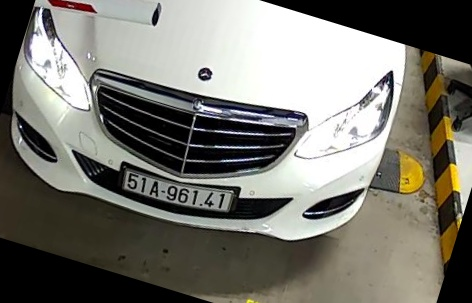plate: (116, 161, 246, 225)
